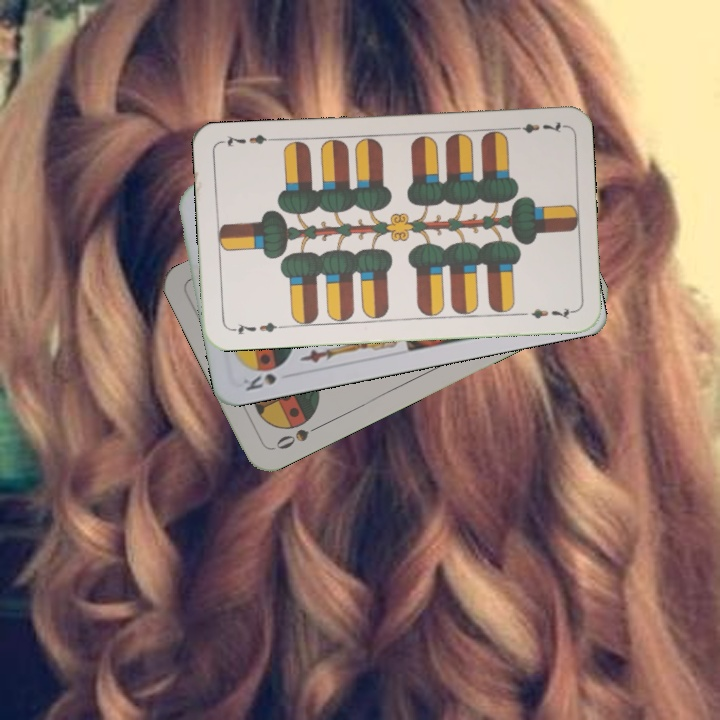E7: (227, 318, 286, 338), (507, 117, 566, 136)
SK: (239, 369, 279, 394)
SO: (268, 420, 324, 452)
